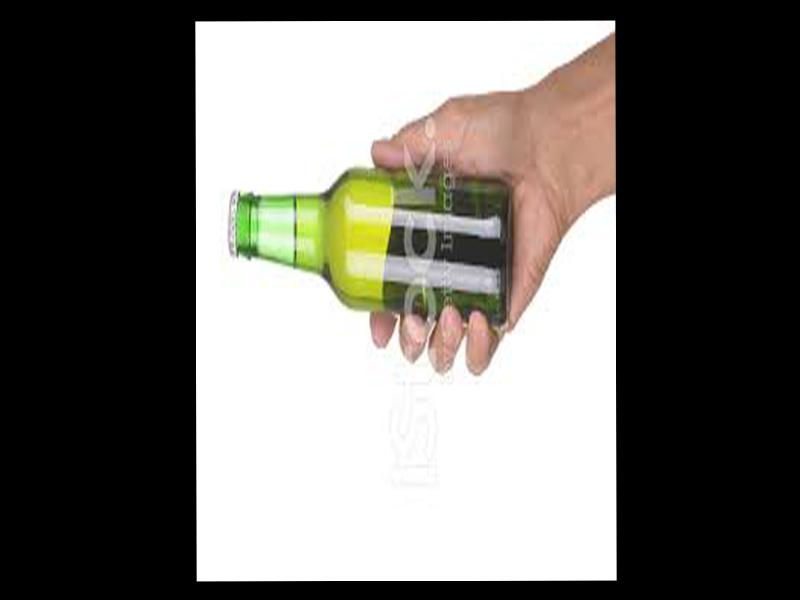Beer: (228, 164, 511, 317)
